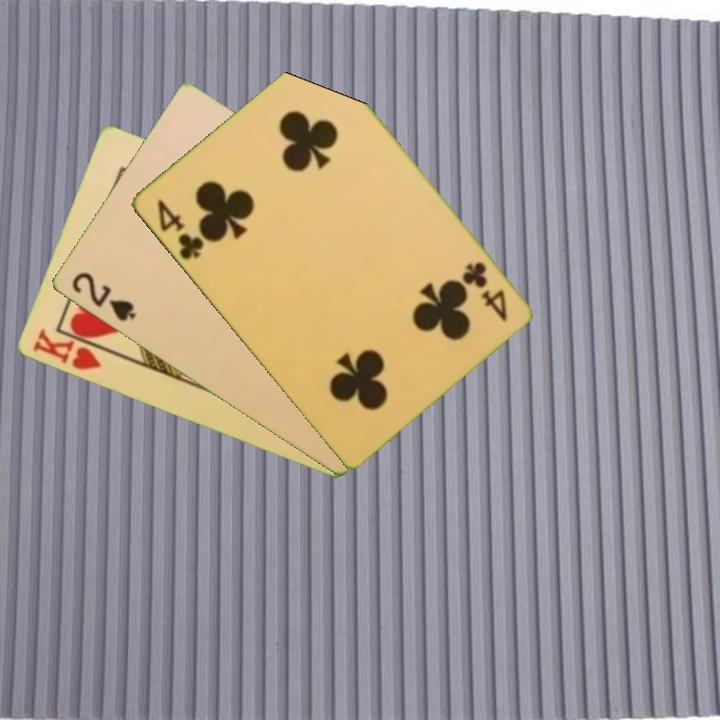2s: (67, 268, 139, 325)
4c: (152, 195, 206, 263), (458, 258, 510, 325)
Kh: (28, 325, 114, 374)
